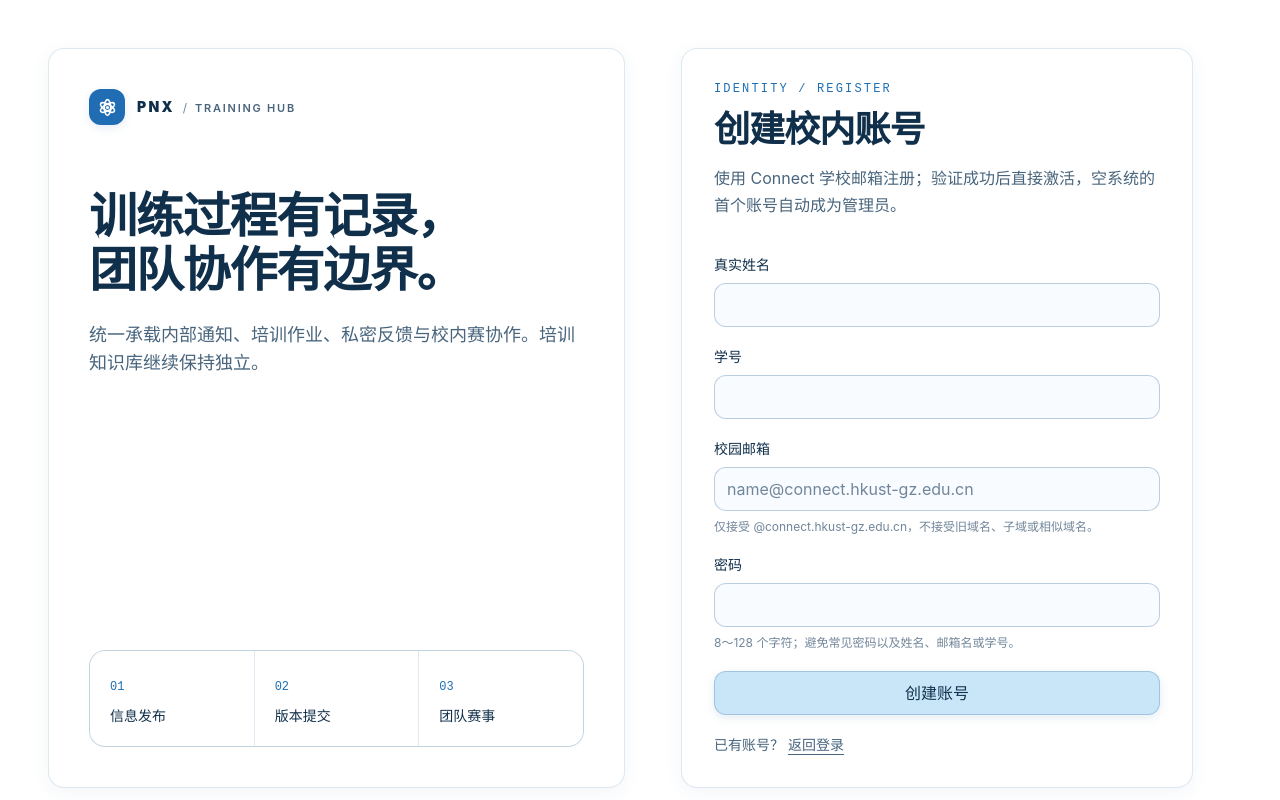
Scenario: login page › shows the derived username and verification requirement after registration
Type "测试学生" into the field labelled "真实姓名" at (937,305), box [714,283,1160,327]
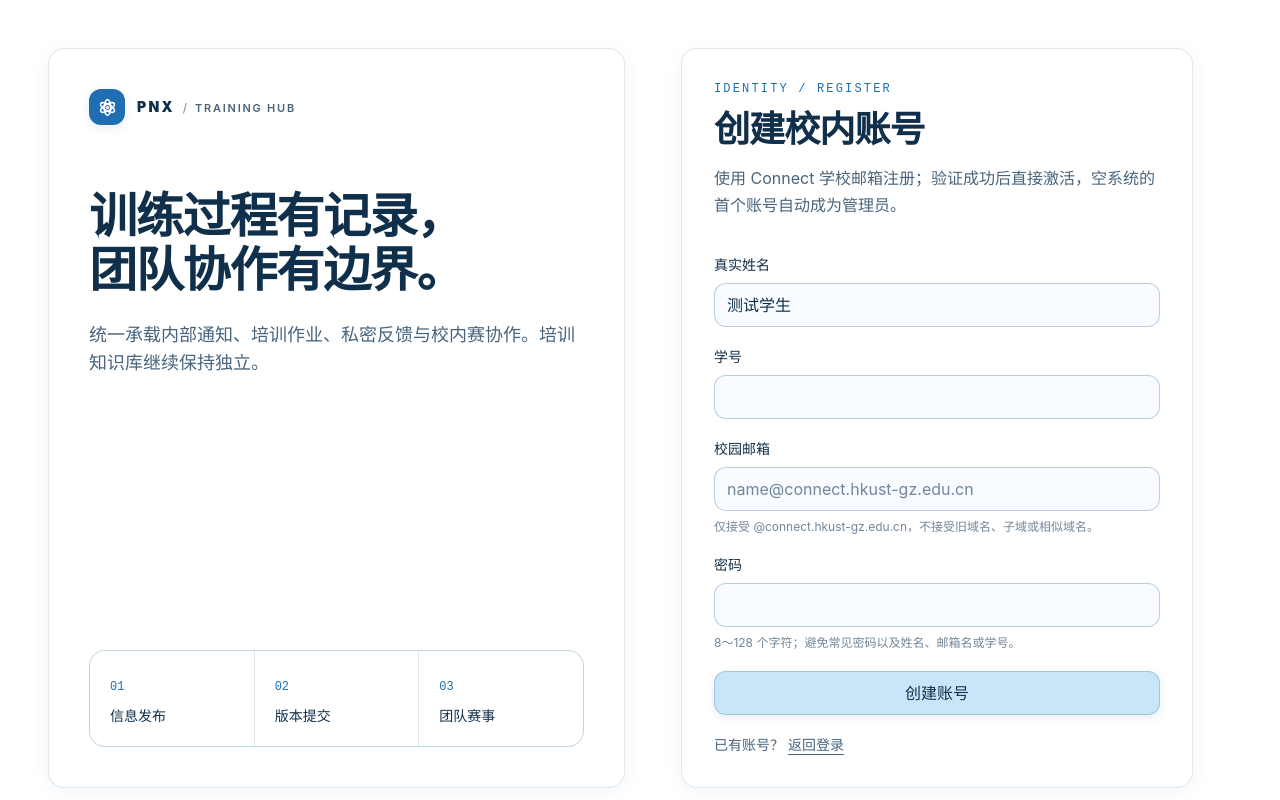
Type "20260001" into the field labelled "学号" at (937,397), box [714,375,1160,419]
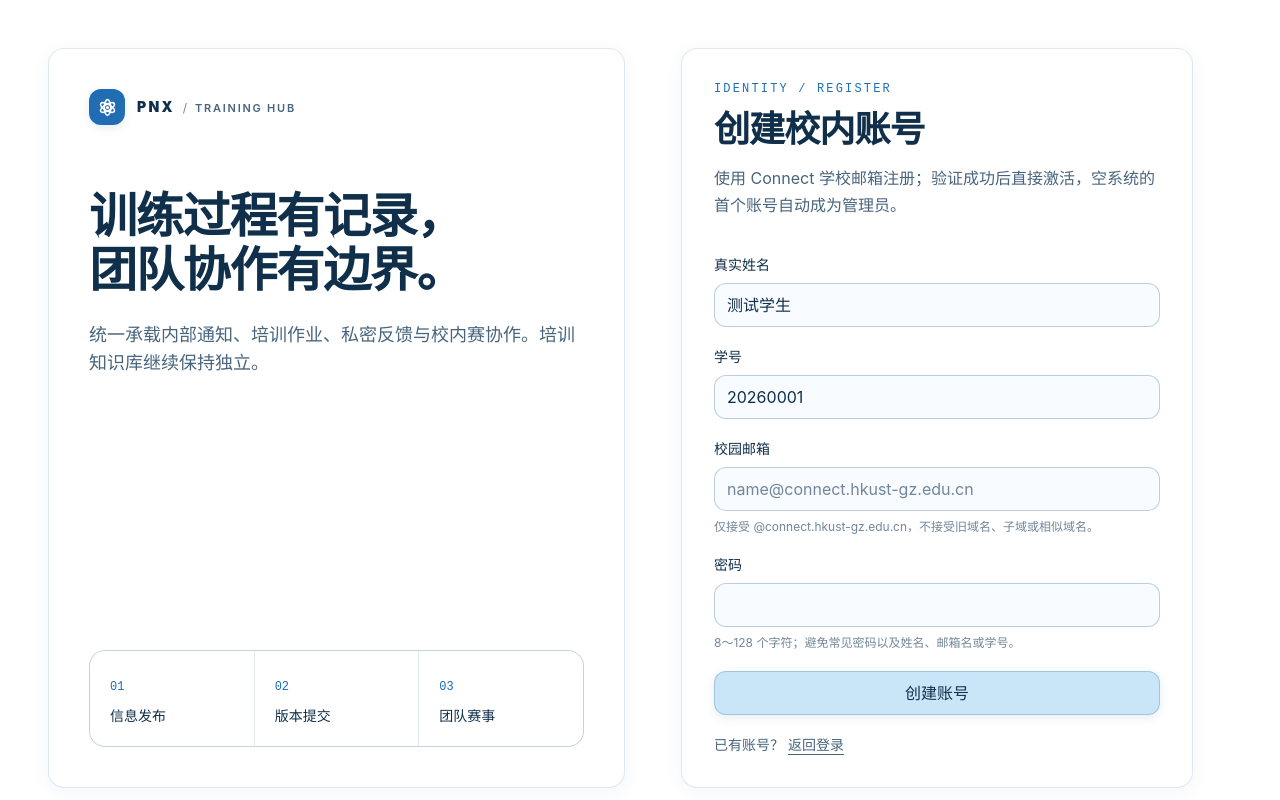
Type "New.Student@connect.hkust-gz.edu.cn" into the field labelled "校园邮箱" at (937,489), box [714,467,1160,511]
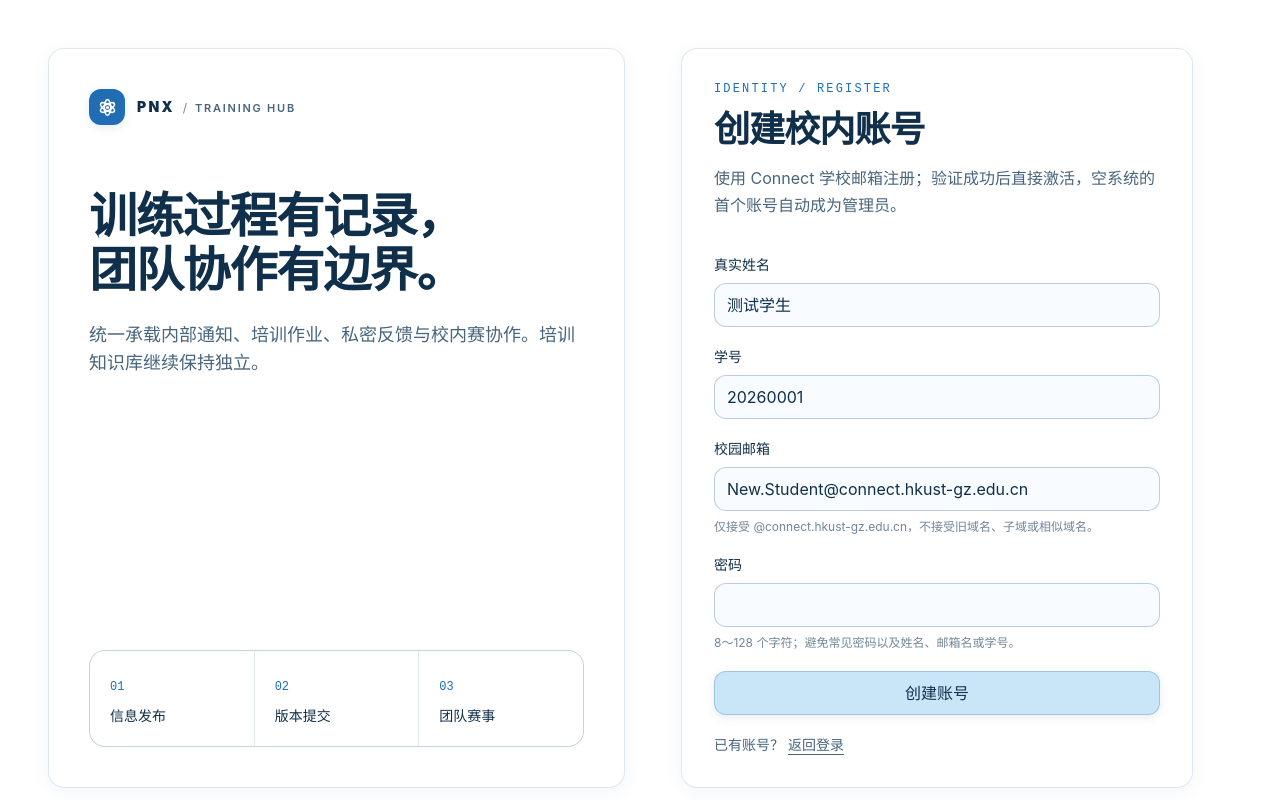
Type "safe-test-password" into the password field labelled "密码" at (937,605), box [714,583,1160,627]
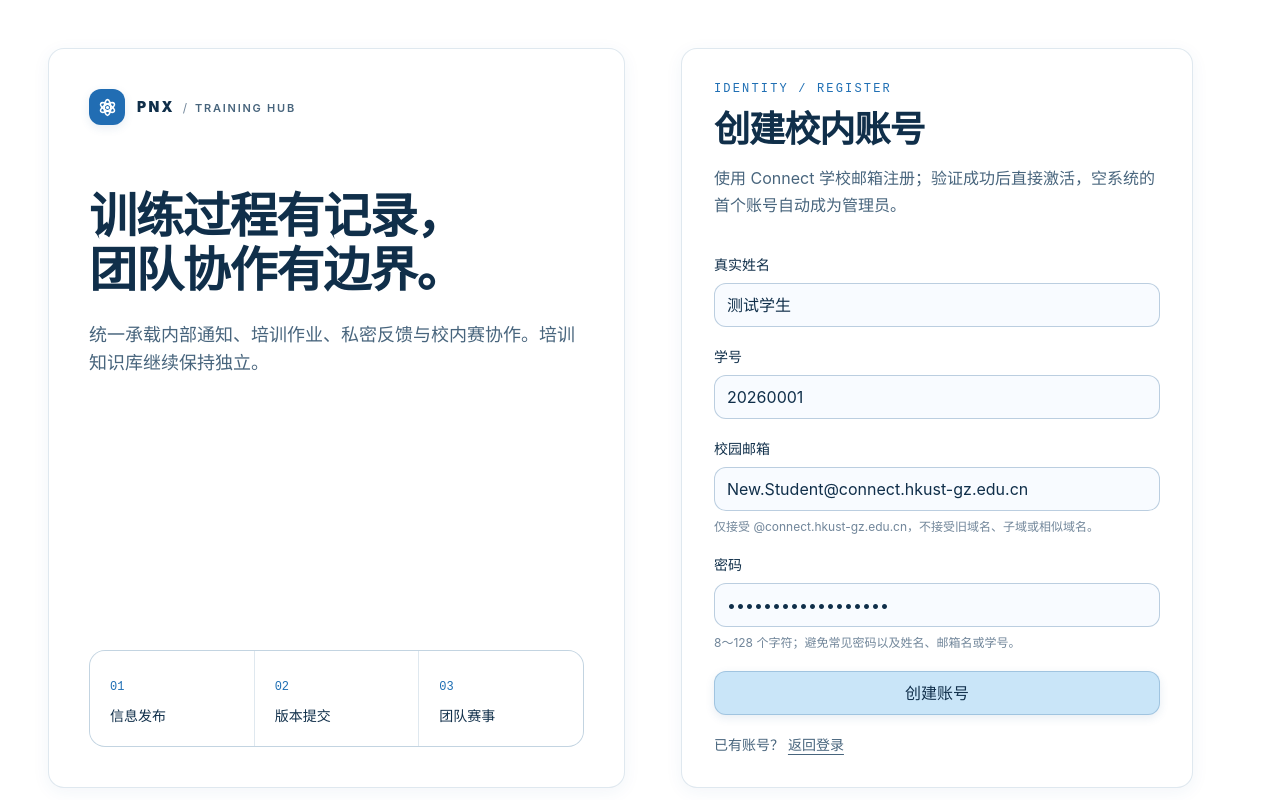
Click the button "创建账号" at (937,693), box [714,671,1160,715]
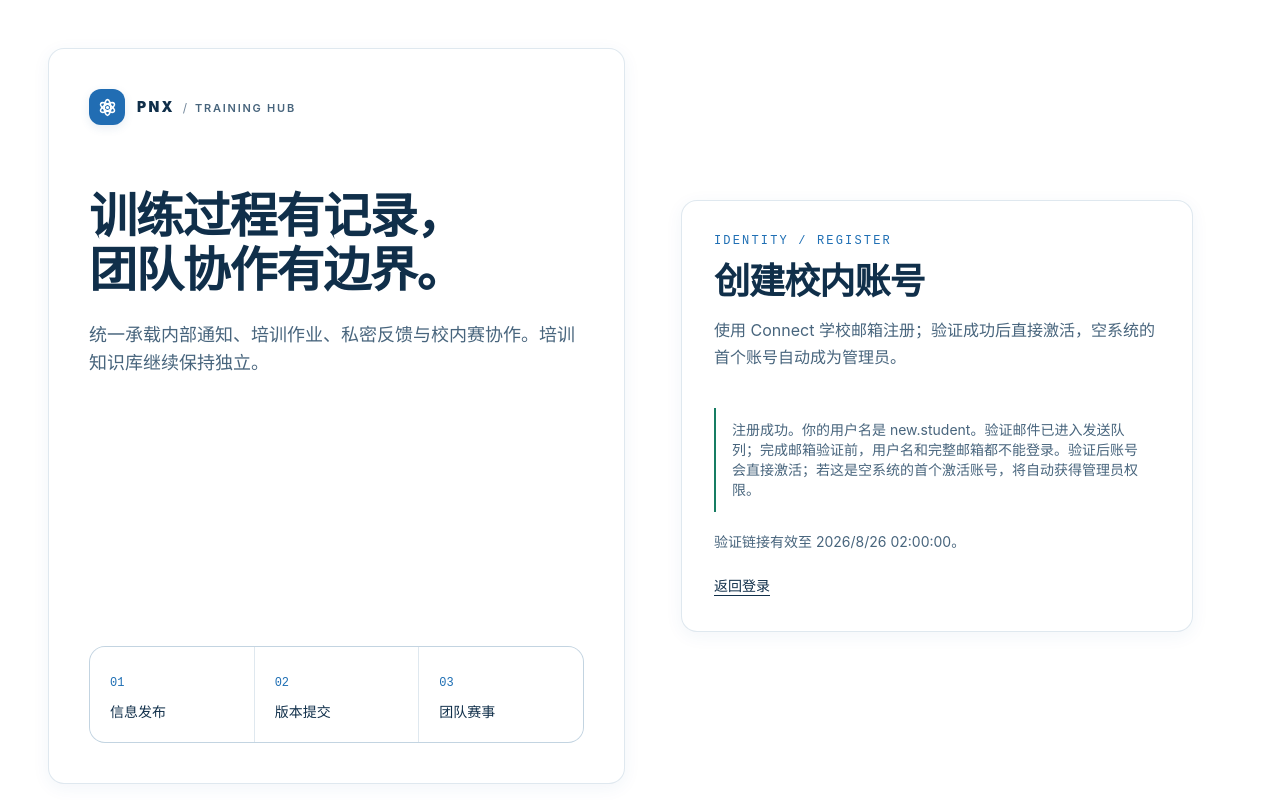
Result: the message shows "你的用户名是 new.student" at [714,408,1160,512]
Result: the message shows "完成邮箱验证前，用户名和完整邮箱都不能登录" at [732,421,1138,498]
